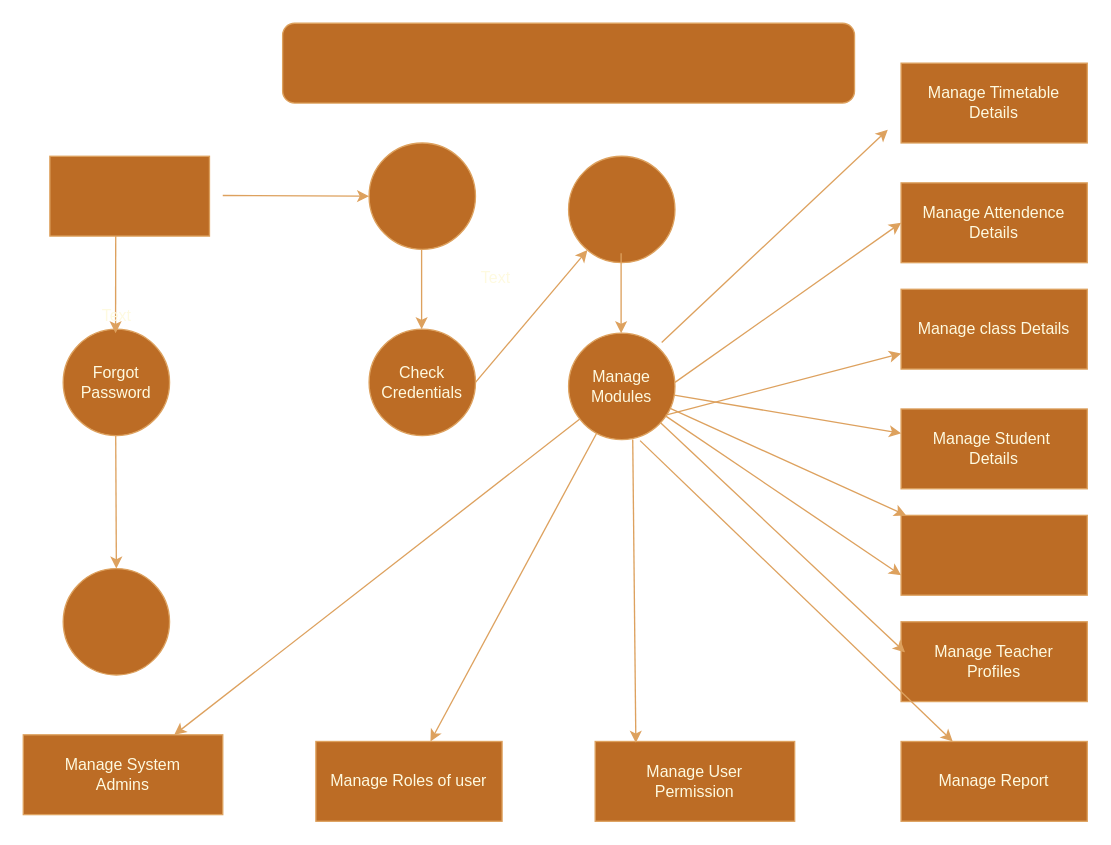
This 1111x845 diagram has some shape labels left out. The shapes that lost their labels are listed below. From the top down, each one's box as (x1, y1, x2, y2) in pixels, then its label:
(281, 22, 855, 103): Students Information System
(49, 155, 209, 236): Admin
(368, 142, 475, 249): Login to System
(567, 155, 675, 263): check Roles of Access
(900, 514, 1087, 595): Manage Fees Details
(62, 567, 170, 675): Send Email to user
